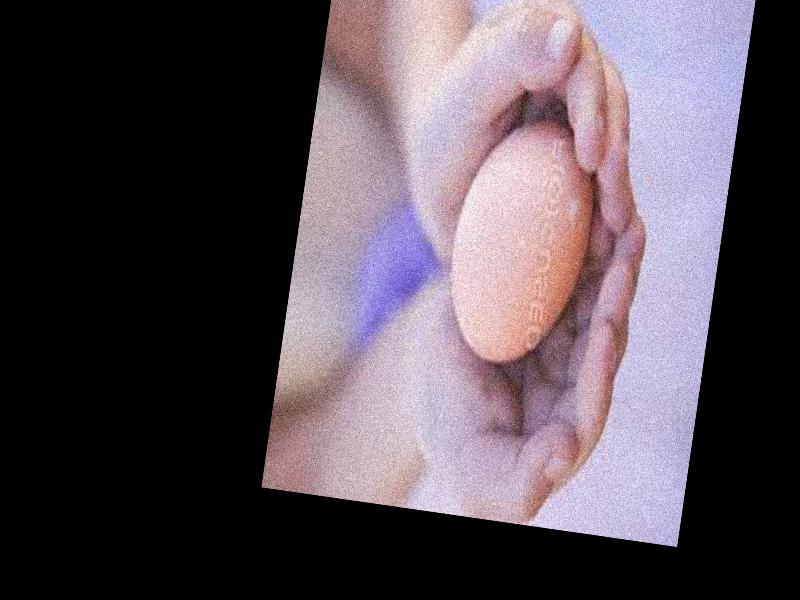Eggs: (436, 112, 604, 377)
